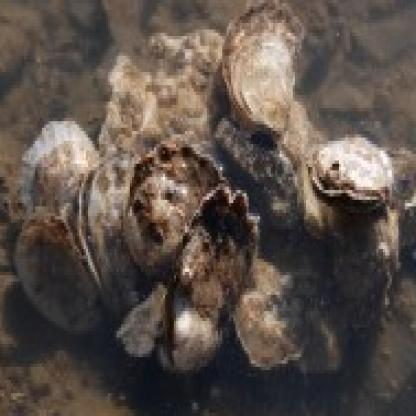3: (78, 151, 141, 322), (312, 135, 393, 210)
Oyster-Closed: (159, 183, 259, 373), (15, 213, 94, 329)
Oyster-Open: (99, 29, 401, 371), (127, 144, 225, 277), (223, 4, 308, 131), (229, 265, 327, 371), (20, 123, 101, 222)
